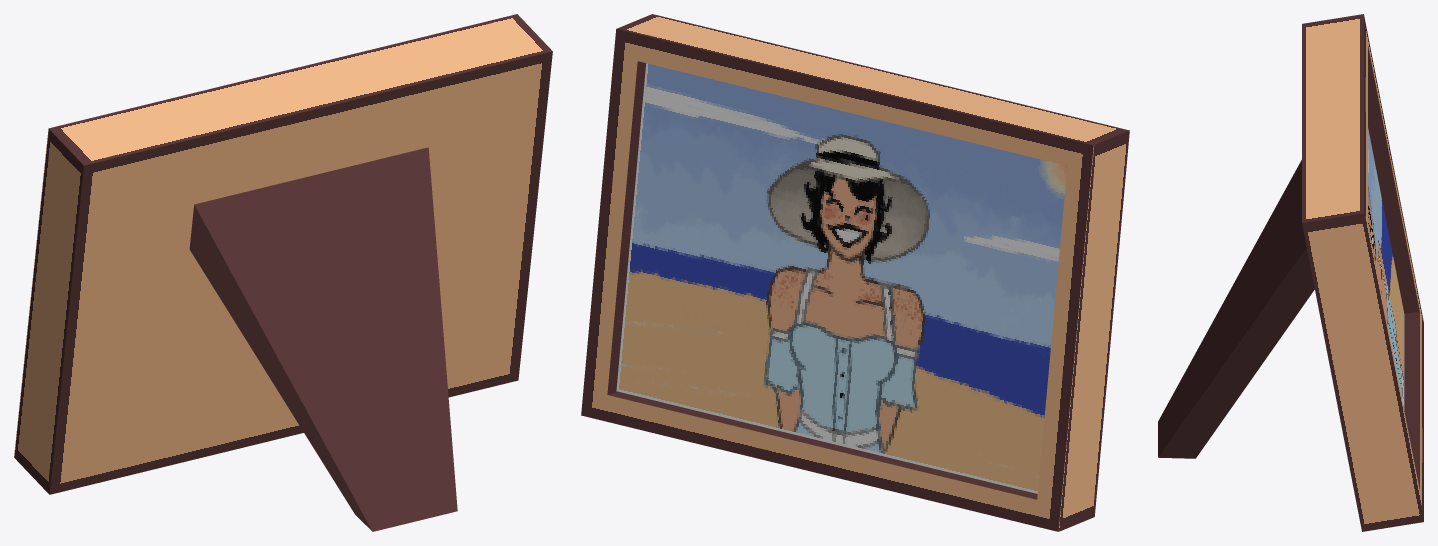
The model's file is NaomiPicture.gltf.
The picture shows the model from 3 angles, left to right: view 1: azimuth 30°, elevation 25°; view 2: azimuth 150°, elevation 25°; view 3: azimuth 270°, elevation 25°; orthographic projection. The views are drawn at different scales.
Visible parts, largest first — view 1: PictureFrame; view 2: PictureFrame; view 3: PictureFrame.
Part boxes in pixels (bbox=[...]): PictureFrame: bbox=[14, 14, 552, 531]; PictureFrame: bbox=[581, 14, 1129, 531]; PictureFrame: bbox=[1158, 14, 1423, 531].
Bounding box in the file's own units: 0.0938 × 0.0702 × 0.0529.
Materials: 1 (1 with a texture image).
